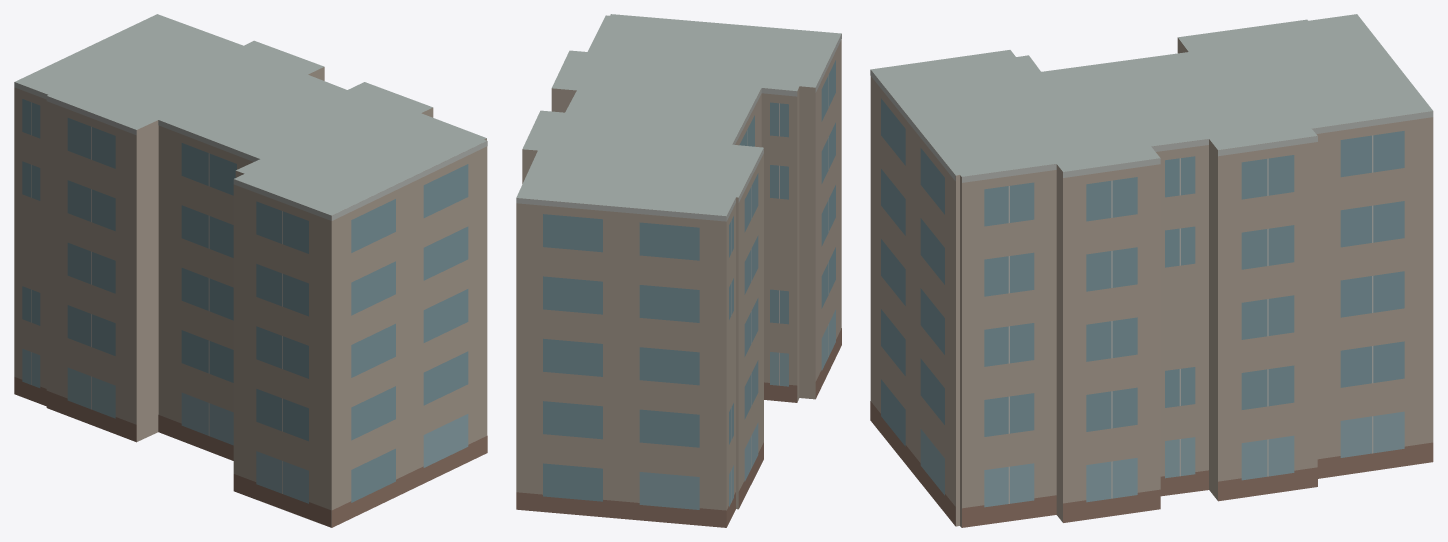
Rendered from survey-upis-32724921.glb.
The picture shows the model from 3 angles, left to right: view 1: azimuth 30°, elevation 25°; view 2: azimuth 150°, elevation 25°; view 3: azimuth 270°, elevation 25°; orthographic projection. The views are drawn at different scales.
Parts seen in each view (by area): view 1: survey-upis-32724921.tmp; view 2: survey-upis-32724921.tmp; view 3: survey-upis-32724921.tmp.
Boxes of the visible parts, x1,y1,x2,y2 form: survey-upis-32724921.tmp: (14,14,487,527); survey-upis-32724921.tmp: (516,14,841,527); survey-upis-32724921.tmp: (870,14,1433,527).
Size of the model in its own units: 14.04 by 14.1 by 20.5.
